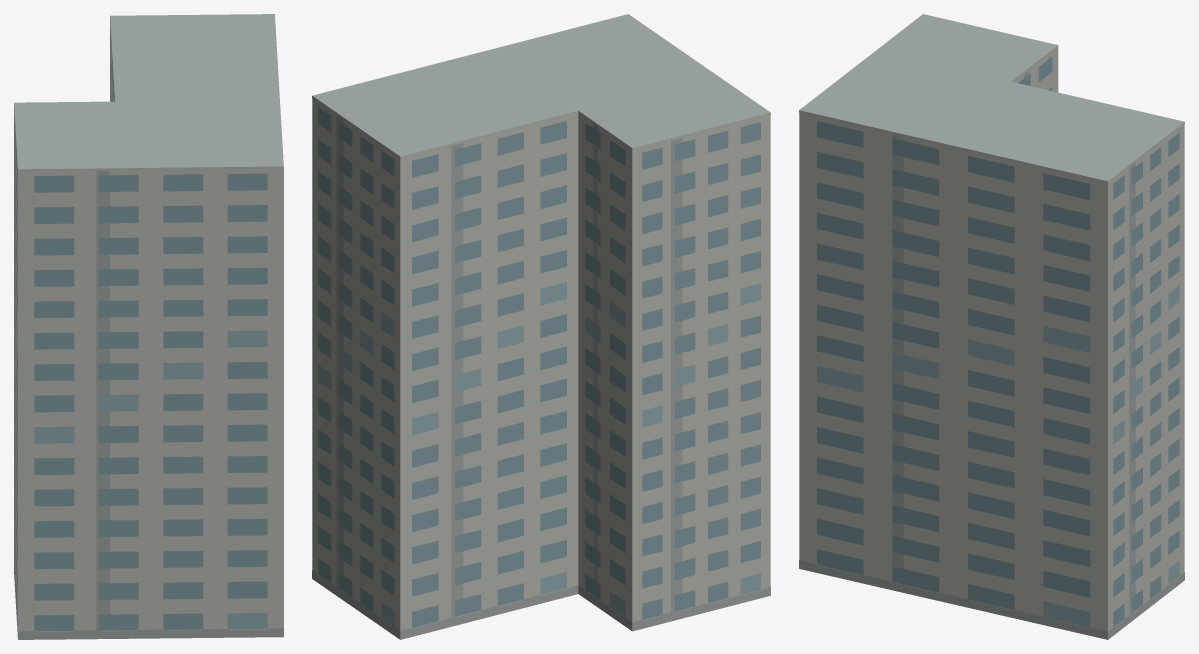
The model's file is residential-2a08f93d-6a45-48cf-989a-9c937a8667e1.glb.
3 renders of one model, left to right at view 1: azimuth 30°, elevation 25°; view 2: azimuth 150°, elevation 25°; view 3: azimuth 270°, elevation 25°, orthographic. The views are drawn at different scales.
Parts seen in each view (by area): view 1: residential-2a08f93d-6a45-48cf-989a-9c937a8667e1.tmp; view 2: residential-2a08f93d-6a45-48cf-989a-9c937a8667e1.tmp; view 3: residential-2a08f93d-6a45-48cf-989a-9c937a8667e1.tmp.
Boxes of the visible parts, x1,y1,x2,y2 form: residential-2a08f93d-6a45-48cf-989a-9c937a8667e1.tmp: (14, 14, 283, 639); residential-2a08f93d-6a45-48cf-989a-9c937a8667e1.tmp: (312, 14, 770, 639); residential-2a08f93d-6a45-48cf-989a-9c937a8667e1.tmp: (799, 14, 1184, 639).
Bounding box in the file's own units: 35.99 × 46 × 35.07.
